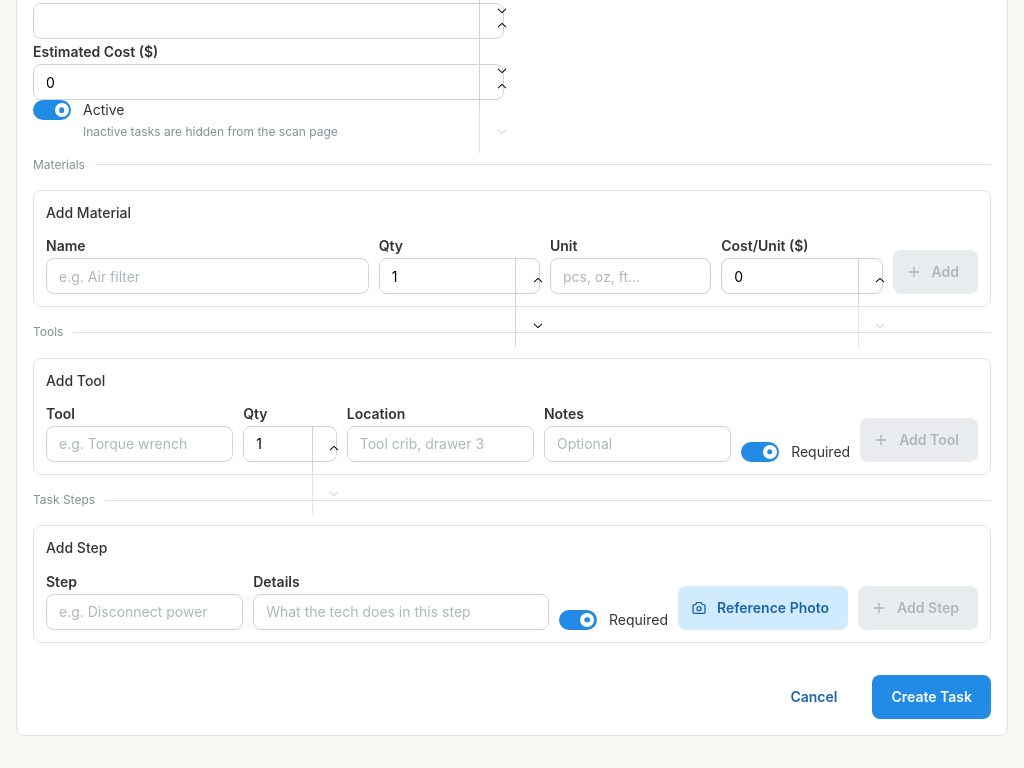
MaintenanceItemFormPage — task steps editor (op-syov) › adds a step row and clears the entry fields
(page scrolled)
Type "Disconnect power" into the field labelled "Step" at (145, 612), box [46,594,243,630]
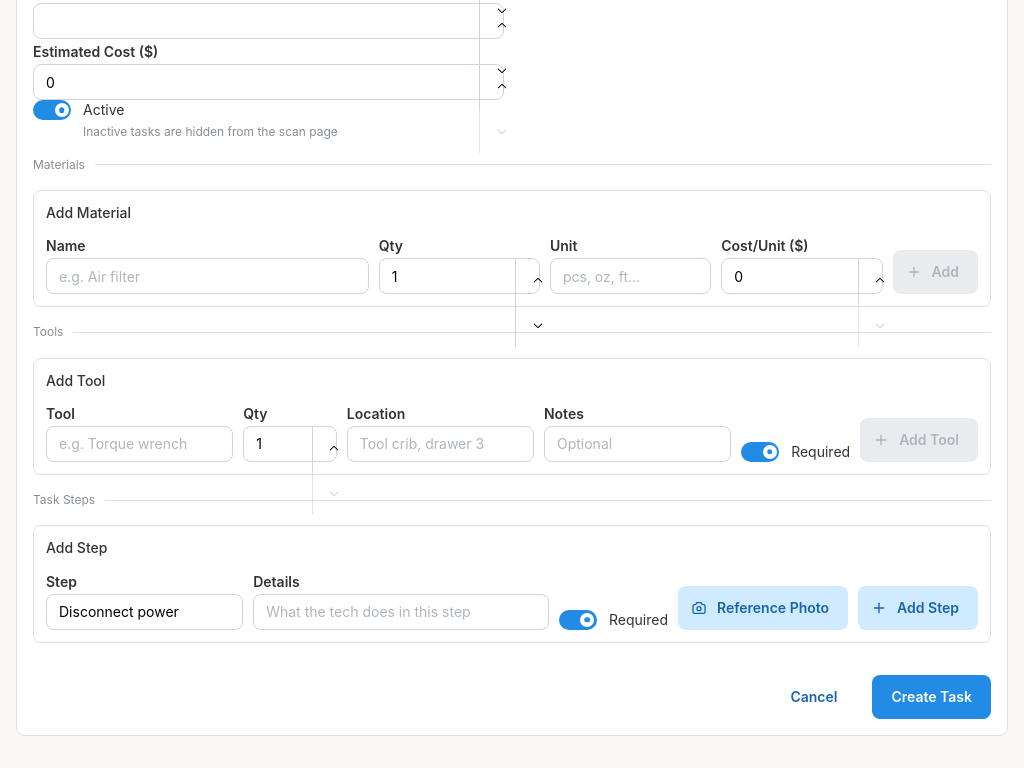
Type "Breaker 12, panel A" into the field labelled "Details" at (401, 612), box [253,594,549,630]
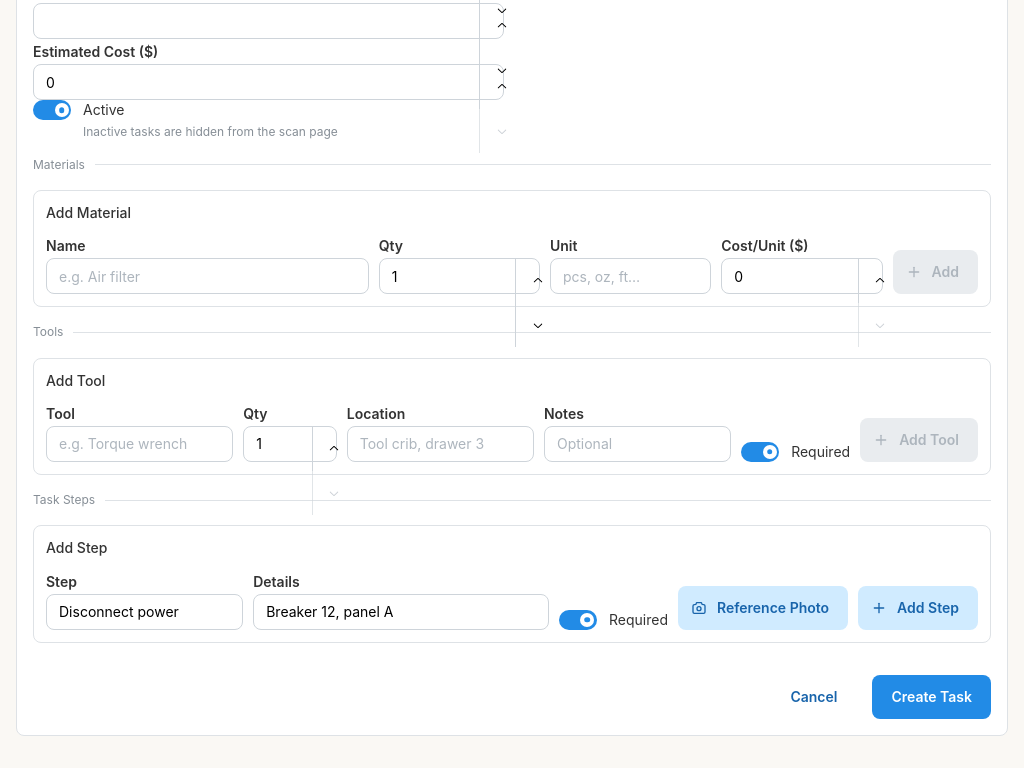
Click the button "Add Step" at (918, 608), box [858,586,978,630]
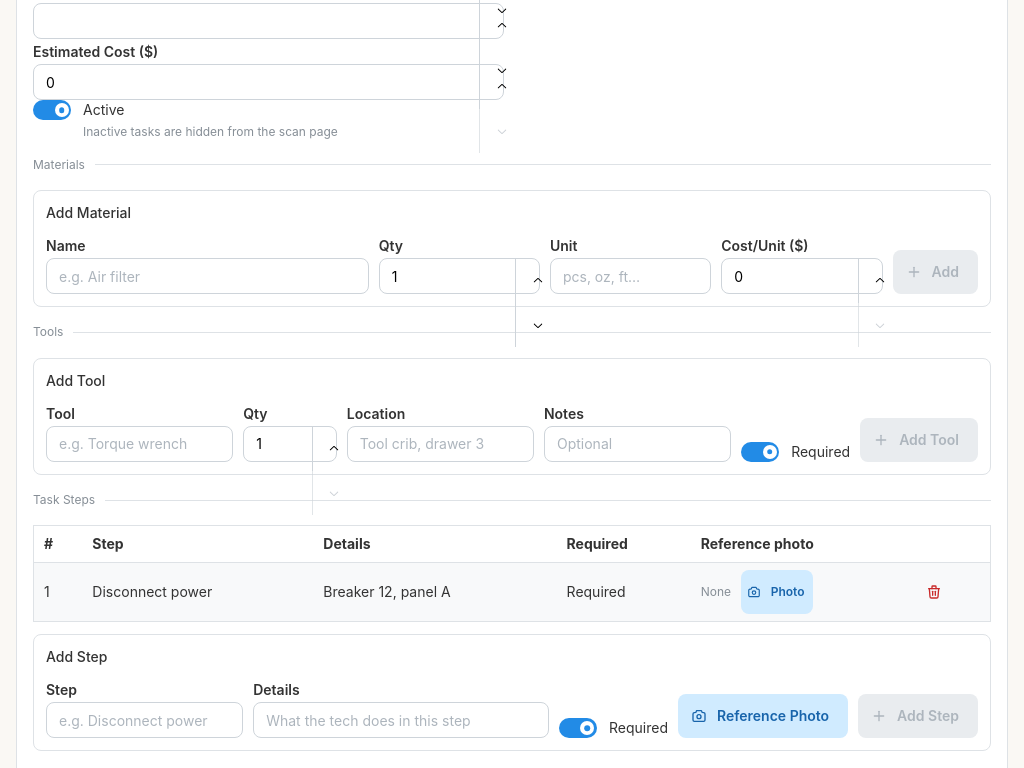
Result: the text "Disconnect power" is shown at [82,563,313,622]
Result: the text "Breaker 12, panel A" is shown at [313,563,557,622]
Result: the field labelled "Step" is empty at [46,702,243,738]
